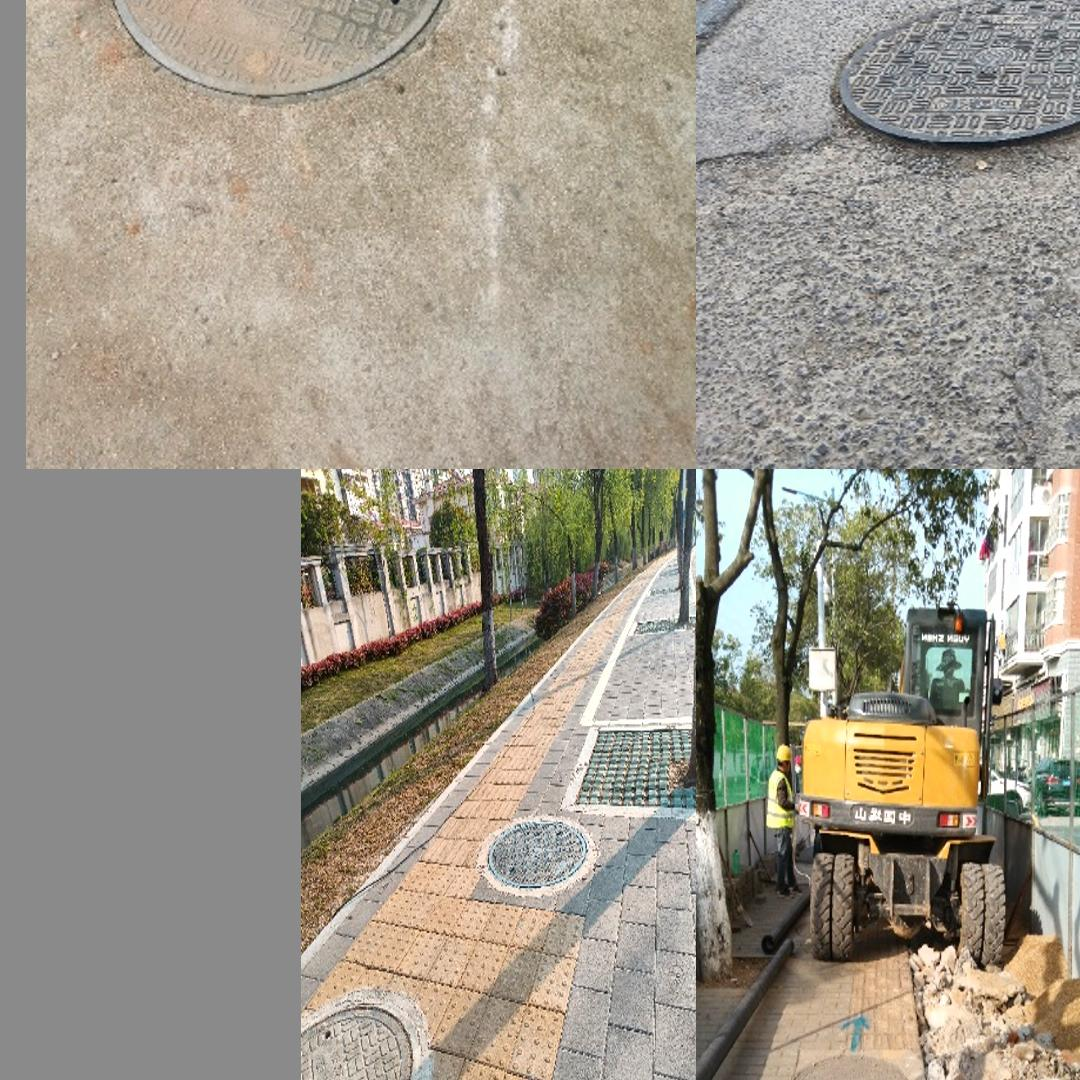good: (823, 0, 1080, 145), (105, 0, 460, 102), (301, 998, 412, 1080), (486, 820, 587, 889), (787, 1051, 906, 1080)
